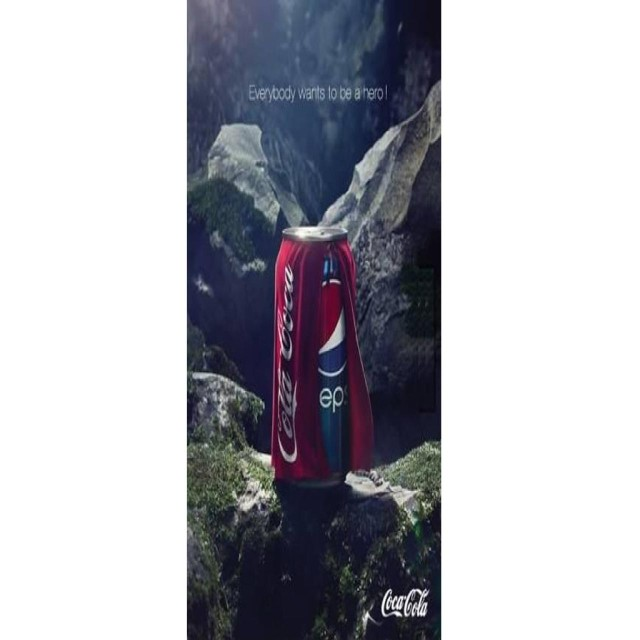pepsi: (317, 266, 351, 388)
